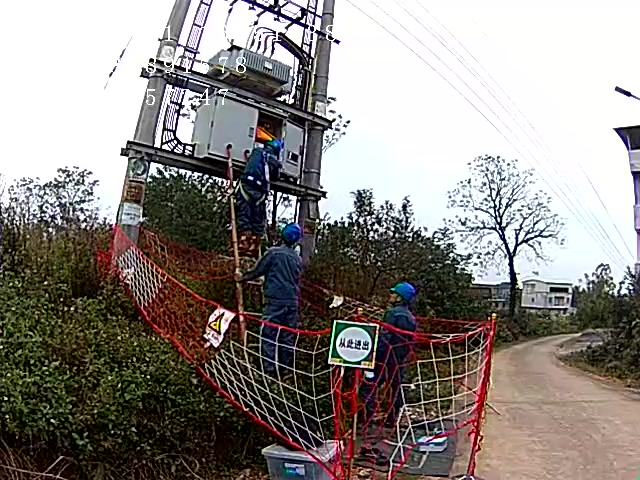halt: (391, 285, 419, 306), (285, 227, 305, 246), (273, 141, 287, 157)
